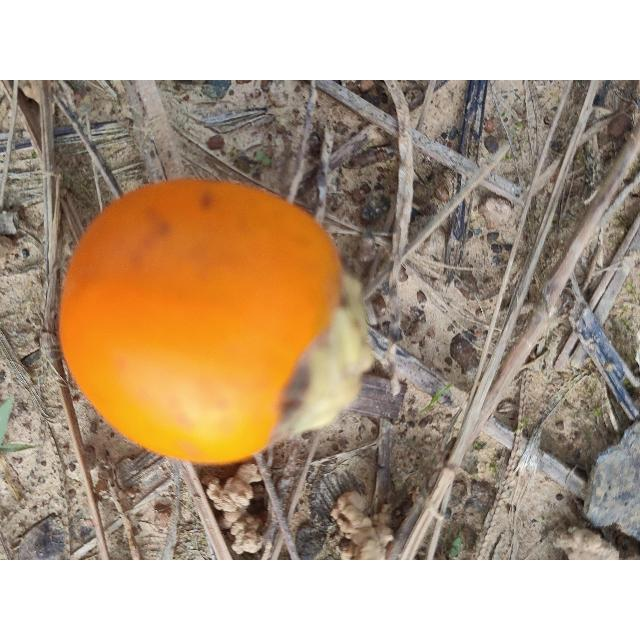good: (56, 178, 373, 468)
